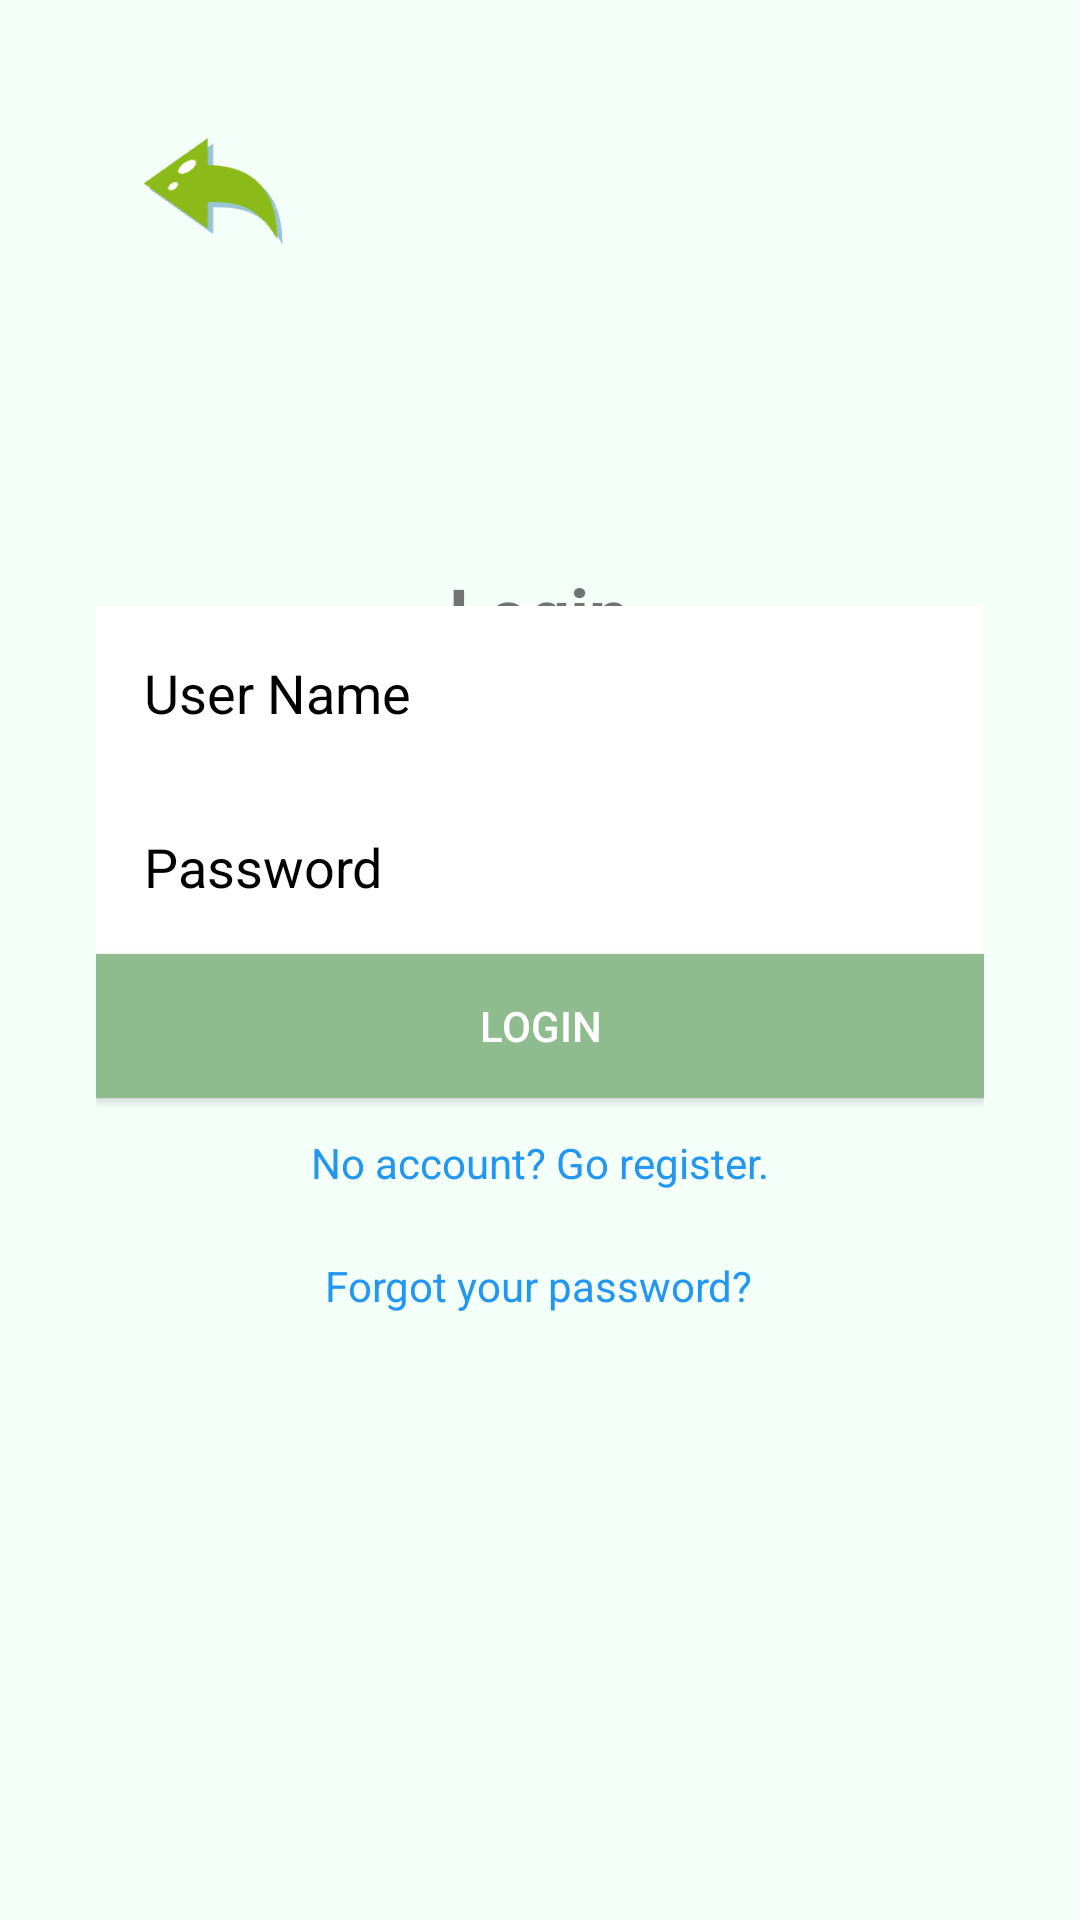

Named icons in this screenshot (1080px×1920px) and their bounding boxes, detection(x1, y1, x2, y2):
Back: detection(143, 138, 283, 245)
